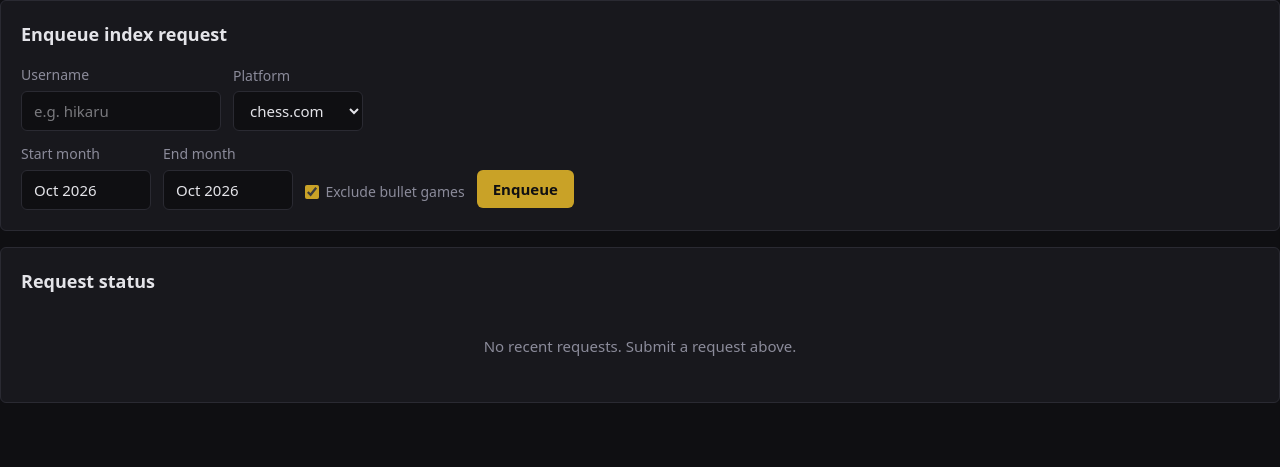
Test case: platform options › asks a muchq.com player for their player id
Step 1. Select "muchq.com" in the dropdown labelled "Platform" → coordinates (298, 111), box [233, 91, 363, 131]
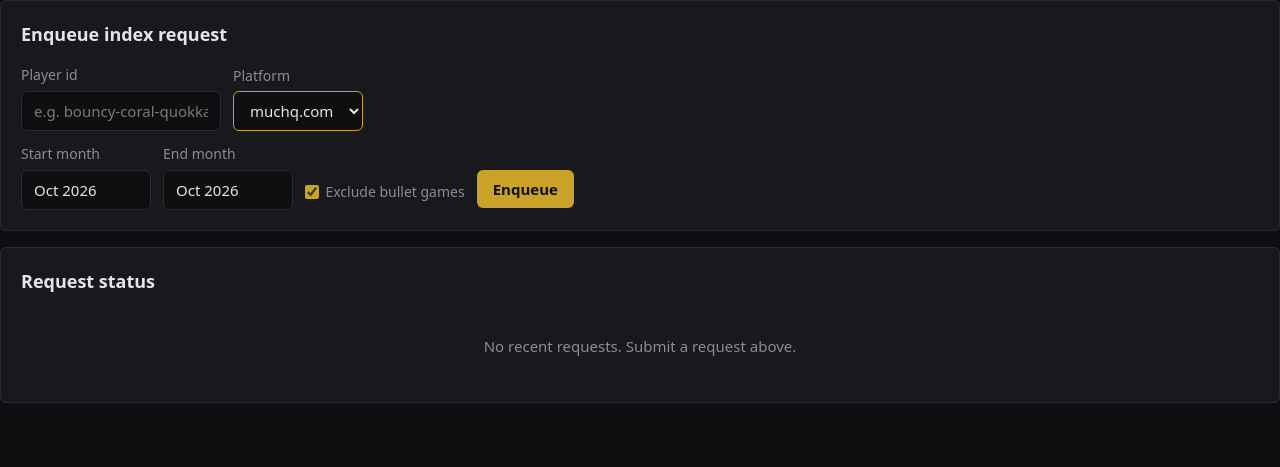
Result: the field labelled "Player id" has attribute placeholder="e.g. bouncy-coral-quokka-x9k2" at [21, 91, 221, 131]
Step 2. Submit the form labelled "Platform", box [21, 65, 574, 210]
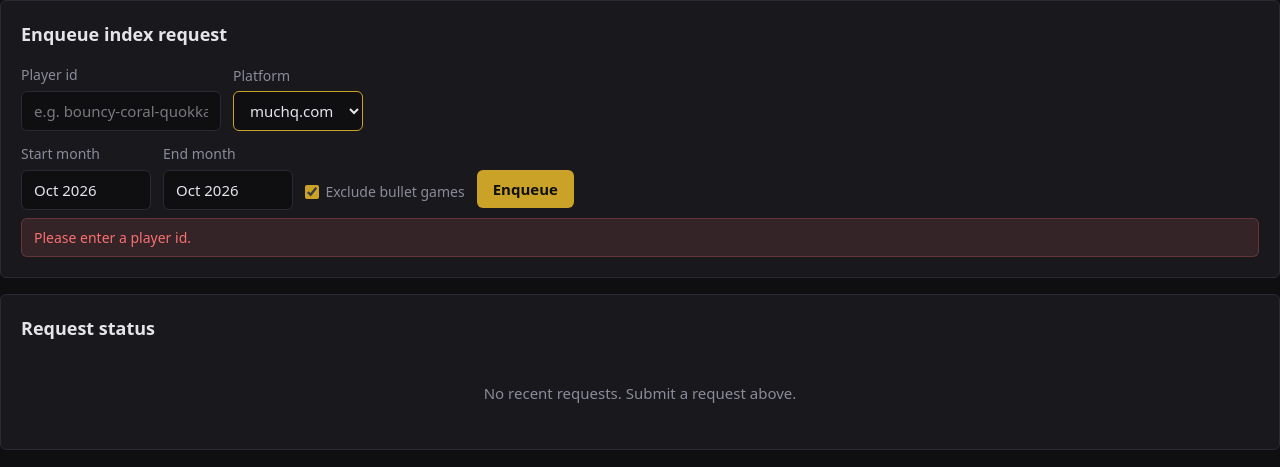
Result: the text "Please enter a player id." is shown at [21, 218, 1259, 257]
